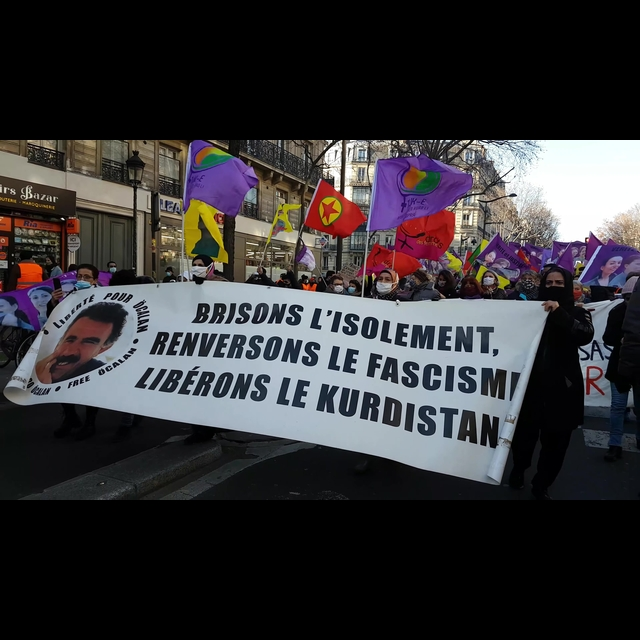APO: (51, 308, 121, 378)
PKK: (317, 193, 343, 229)
